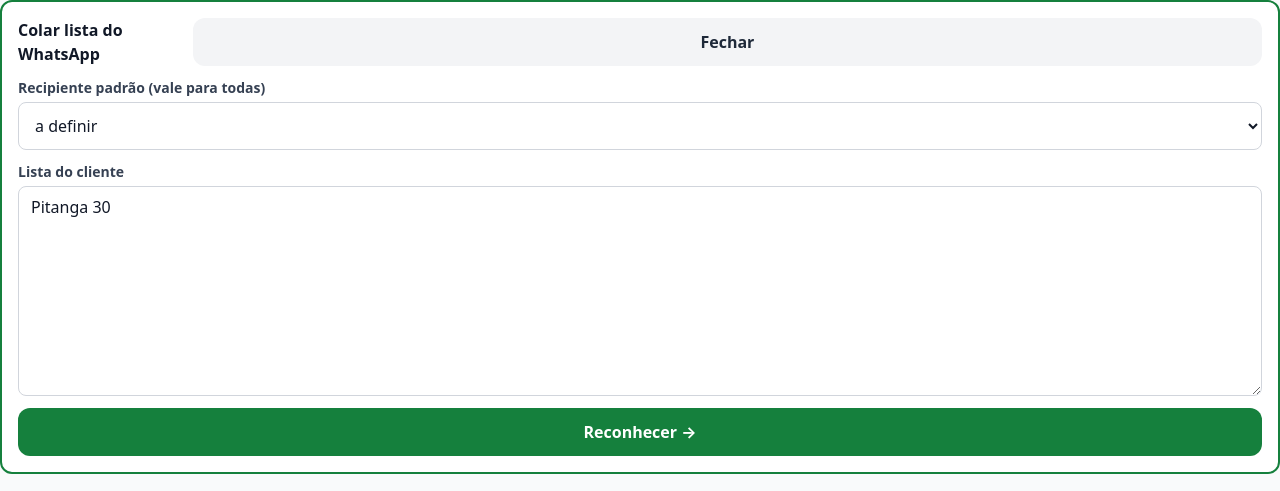
Test: conferência da lista colada (T8.16) › a altura em centímetros vira metros ao sair do campo, e a que não se entende segura
This screenshot has width=1280, height=491.
Select "Tubete" in the dropdown labelled "Recipiente padrão (vale para todas)" at (640, 126), box [18,102,1262,150]
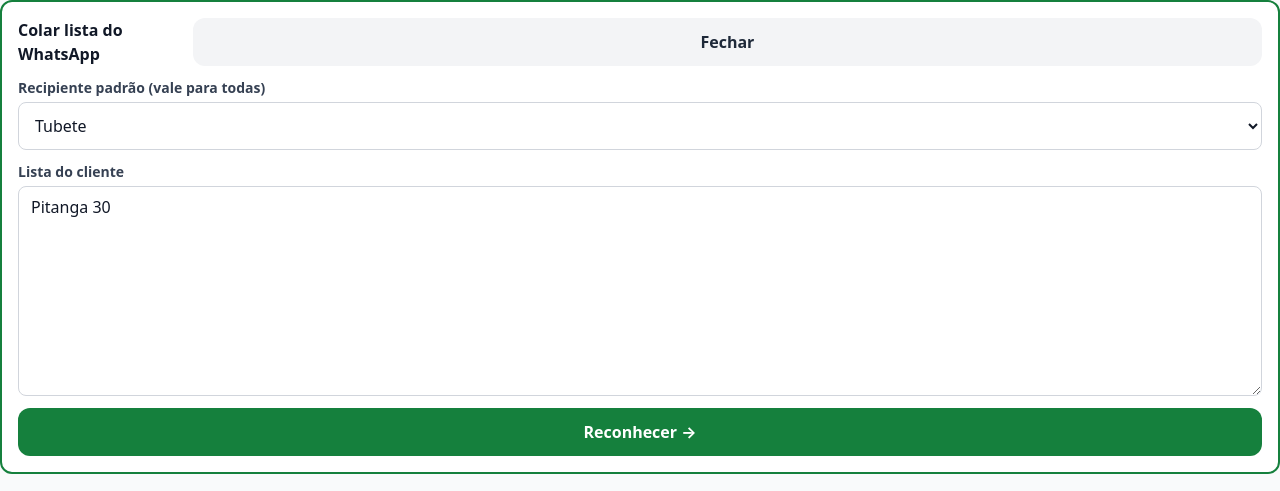
Click the button "Reconhecer →" at (640, 432), box [18,408,1262,456]
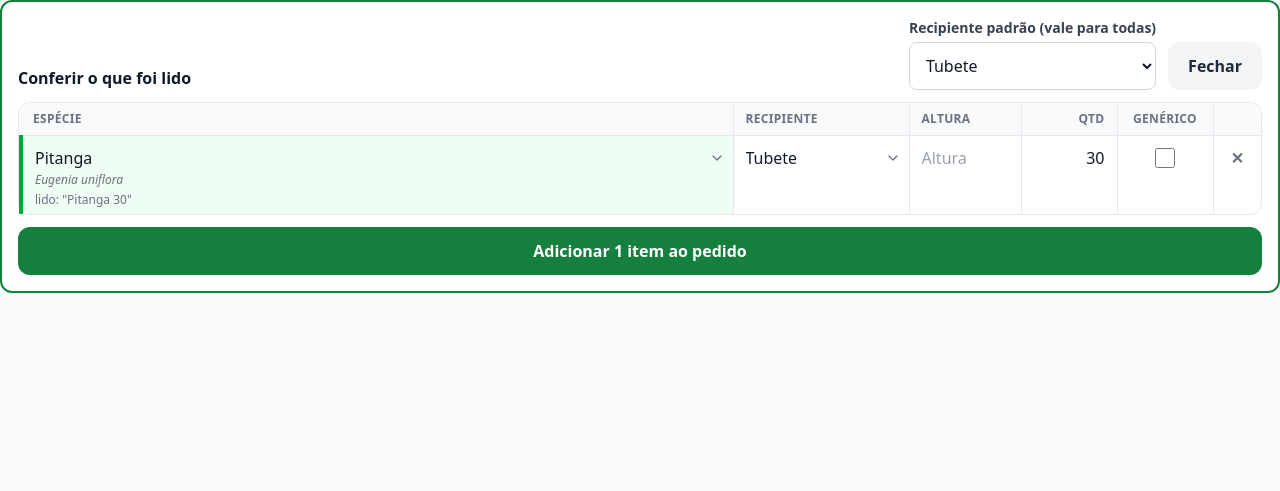
Type "120" into the field named "Altura da linha 1" at (965, 158), box [910,136,1020,180]
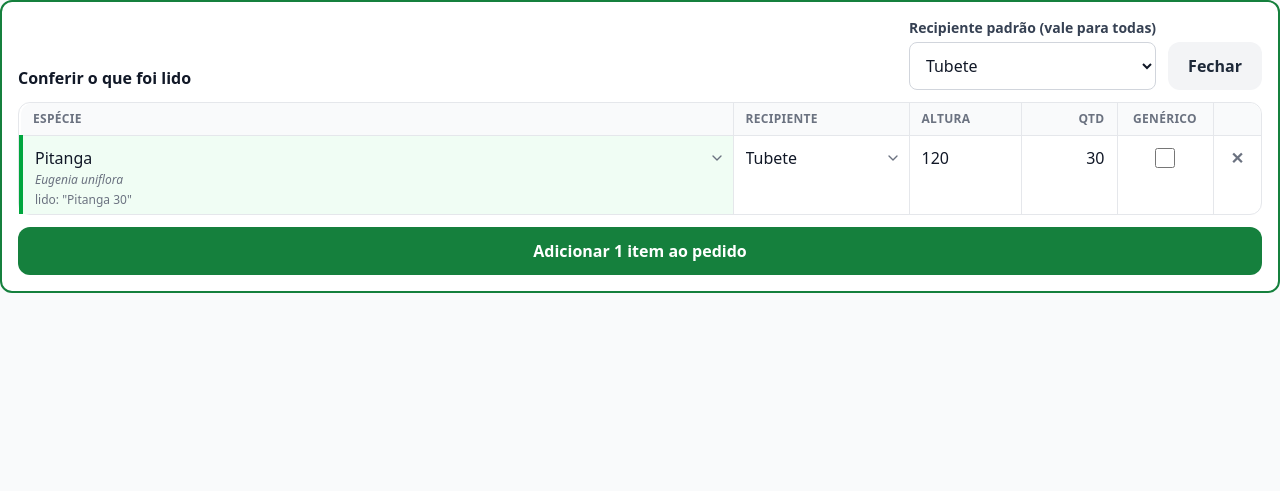
Leave the 3rd field named "Altura da linha 1", box [910,136,1020,180]
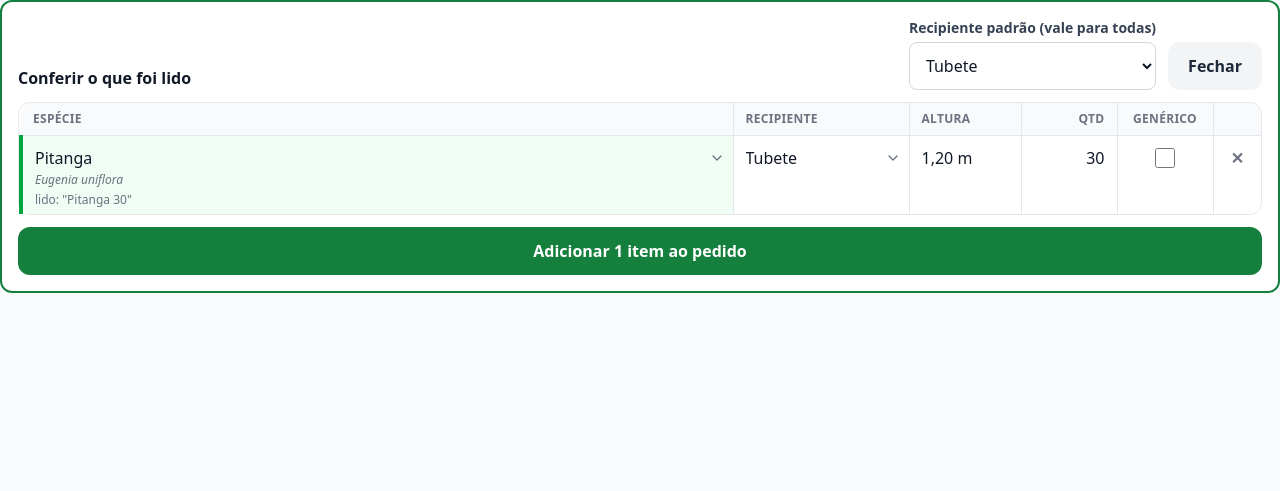
expect the 3rd field named "Altura da linha 1" holds "1,20 m": met
Replace the text in the 3rd field named "Altura da linha 1" with "alta" at (965, 158), box [910,136,1020,180]
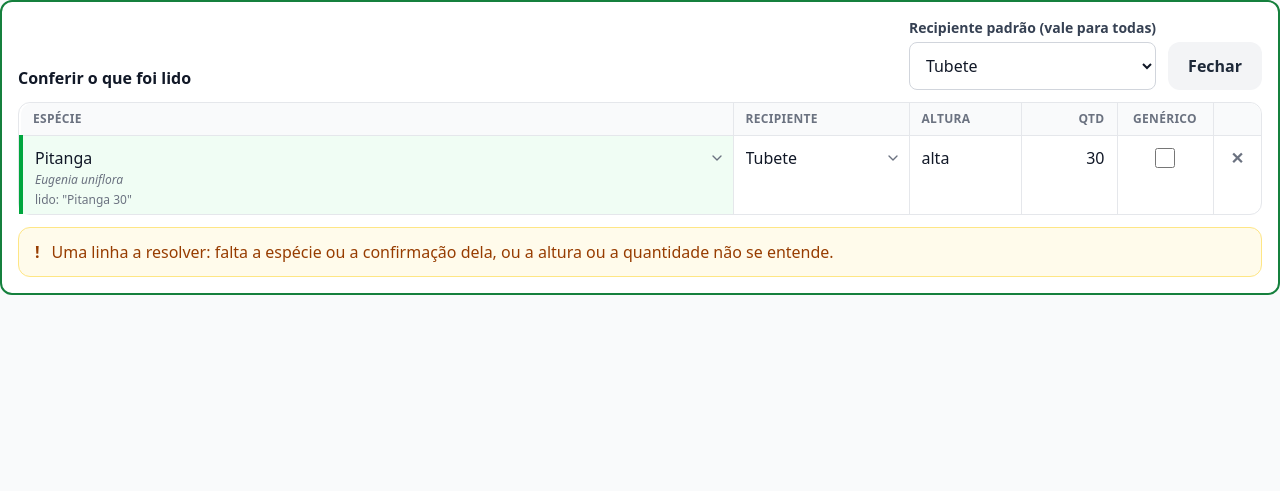
expect the text "Uma linha a resolver" is shown: met, box [52,241,834,263]
